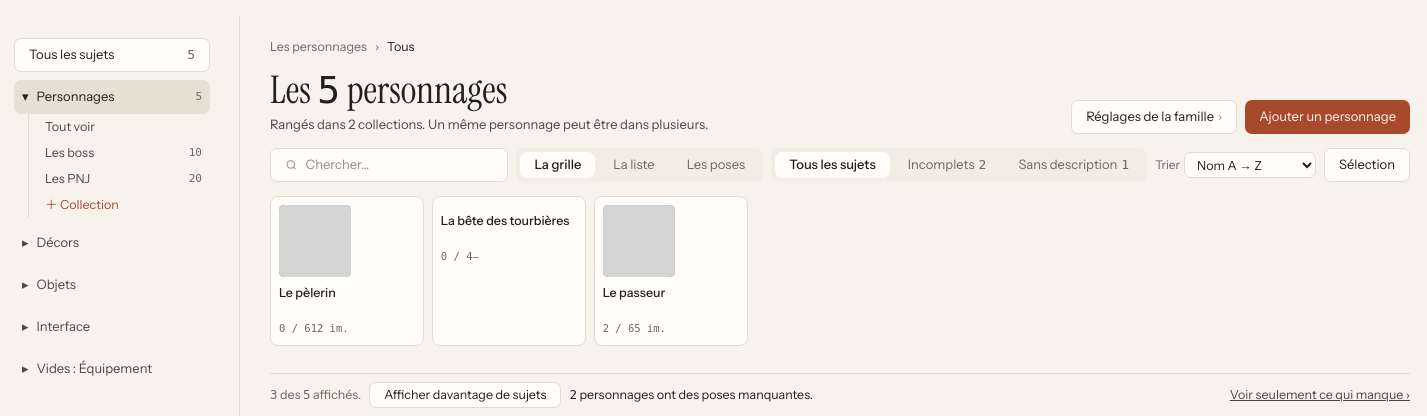
Test: la recherche et les filtres partent au serveur › le bouton « Afficher davantage de sujets » n'est là que s'il reste des sujets à charger
(page scrolled)
Check: the heading "Les 5 personnages" is shown, box top-left (270, 65), bottom-right (507, 115)
Click the button "Afficher davantage de sujets": (465, 395) top-left (369, 382), bottom-right (561, 408)
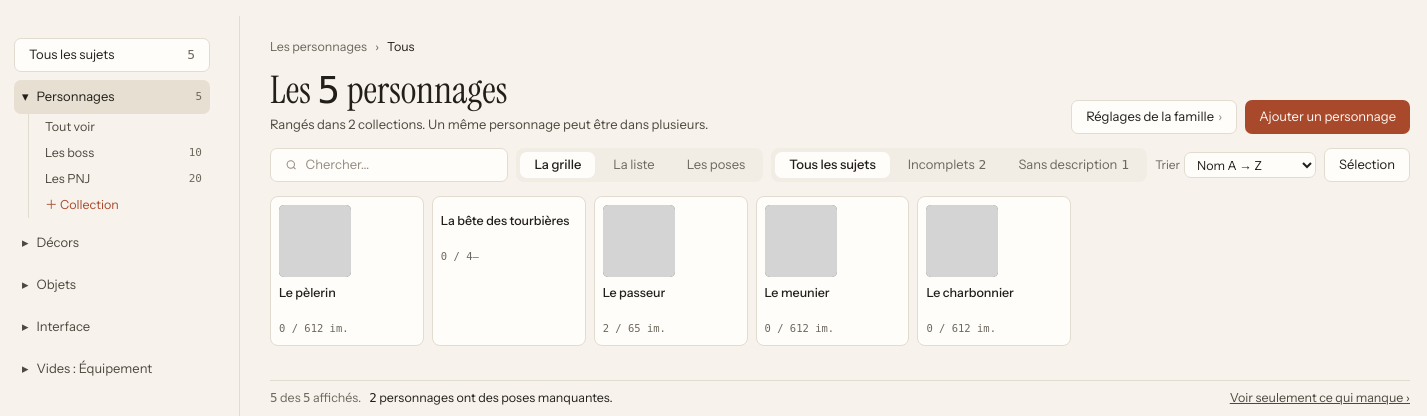
Check: the text "5 des 5 affichés" is shown, box top-left (270, 389), bottom-right (361, 408)
Check: the button "Afficher davantage de sujets" is gone
